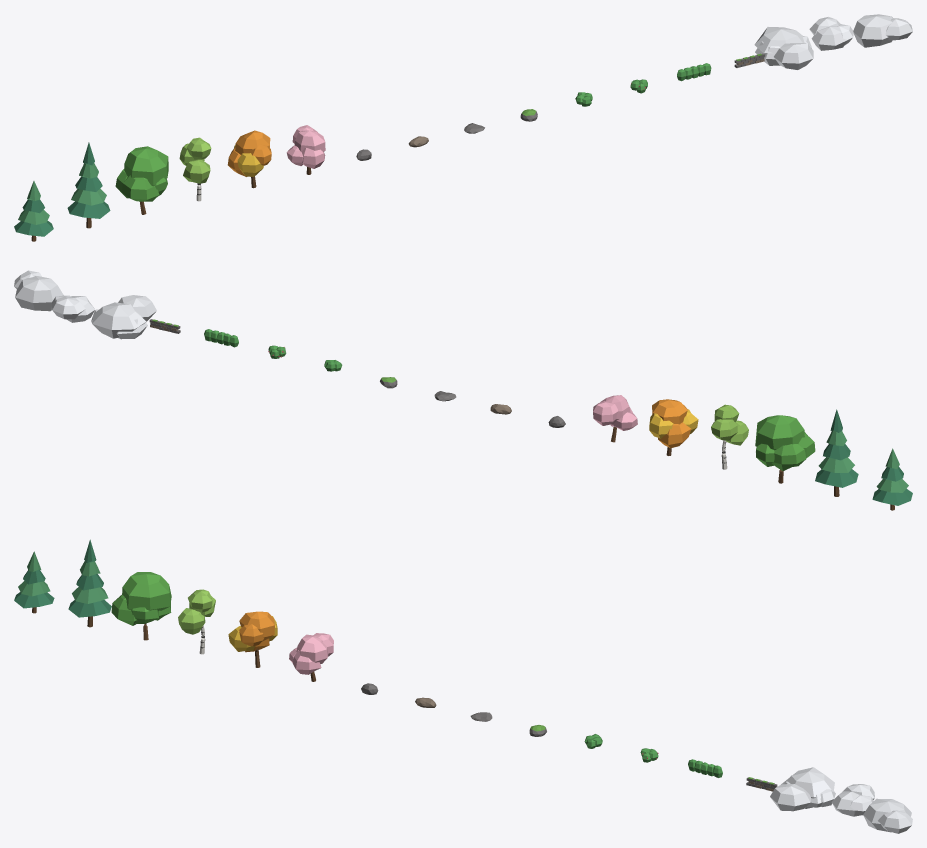
Rendered from nature.glb.
3 views of the same model, one above another, from view 1: azimuth 30°, elevation 25°; view 2: azimuth 150°, elevation 25°; view 3: azimuth 330°, elevation 25° (orthographic).
Visible parts, largest first — view 1: Cloud_B, Tree_Oak, Cloud_A, Tree_PineTall, Tree_Autumn, Tree_Blossom, Tree_Pine, Tree_Birch; view 2: Tree_Oak, Cloud_B, Cloud_A, Tree_PineTall, Tree_Autumn, Tree_Pine, Tree_Blossom, Tree_Birch; view 3: Tree_Oak, Cloud_B, Cloud_A, Tree_PineTall, Tree_Autumn, Tree_Blossom, Tree_Pine, Tree_Birch.
Part boxes in pixels (x1,y1,x2,y2): Cloud_B: [809, 14, 912, 50]; Tree_Oak: [115, 146, 168, 214]; Cloud_A: [754, 27, 813, 69]; Tree_PineTall: [67, 142, 110, 228]; Tree_Autumn: [227, 130, 271, 188]; Tree_Blossom: [286, 125, 325, 174]; Tree_Pine: [14, 181, 53, 241]; Tree_Birch: [179, 137, 211, 201]; Tree_Oak: [755, 415, 815, 483]; Cloud_B: [14, 270, 95, 322]; Cloud_A: [91, 295, 156, 339]; Tree_PineTall: [815, 409, 858, 496]; Tree_Autumn: [649, 399, 698, 455]; Tree_Pine: [872, 448, 912, 510]; Tree_Blossom: [593, 395, 637, 442]; Tree_Birch: [711, 404, 748, 469]; Tree_Oak: [111, 572, 171, 640]; Cloud_B: [831, 784, 912, 833]; Cloud_A: [770, 767, 835, 811]; Tree_PineTall: [68, 539, 111, 627]; Tree_Autumn: [228, 611, 277, 667]; Tree_Blossom: [289, 633, 333, 681]; Tree_Pine: [14, 551, 54, 613]; Tree_Birch: [178, 589, 215, 654].
Bounding box in the file's own units: 129 × 13.34 × 9.12.
